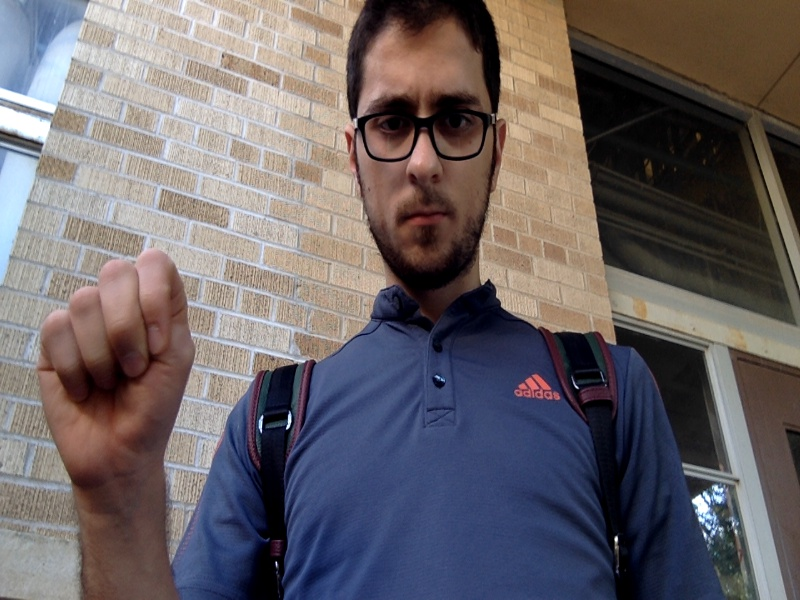0-hand: (41, 252, 196, 496)
